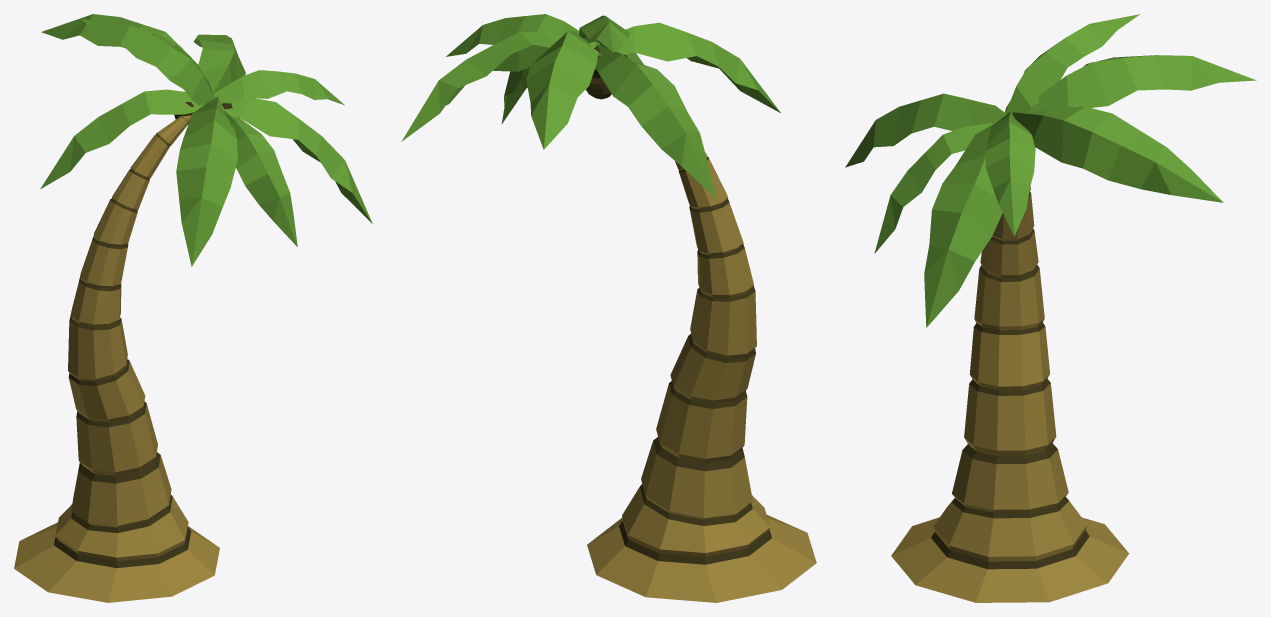
Rendered from tree_5.gltf.
3 views of the same model, side by side, from view 1: azimuth 30°, elevation 25°; view 2: azimuth 150°, elevation 25°; view 3: azimuth 270°, elevation 25° (orthographic). The views are drawn at different scales.
Visible parts, largest first — view 1: Circle.002_Material.008_0, Circle.002_Material.010_0, Circle.002_Material.009_0; view 2: Circle.002_Material.008_0, Circle.002_Material.010_0, Circle.002_Material.009_0; view 3: Circle.002_Material.010_0, Circle.002_Material.008_0, Circle.002_Material.009_0.
Boxes of the visible parts, box(x1,y1,x2,y2) form: Circle.002_Material.008_0: box(14, 115, 219, 602); Circle.002_Material.010_0: box(40, 14, 372, 266); Circle.002_Material.009_0: box(54, 102, 239, 567); Circle.002_Material.008_0: box(587, 152, 816, 602); Circle.002_Material.010_0: box(401, 14, 780, 197); Circle.002_Material.009_0: box(586, 46, 771, 564); Circle.002_Material.010_0: box(845, 14, 1256, 327); Circle.002_Material.008_0: box(891, 186, 1128, 602); Circle.002_Material.009_0: box(931, 125, 1089, 569).
Bounding box in the file's own units: 6.65 × 9.9 × 6.63.
